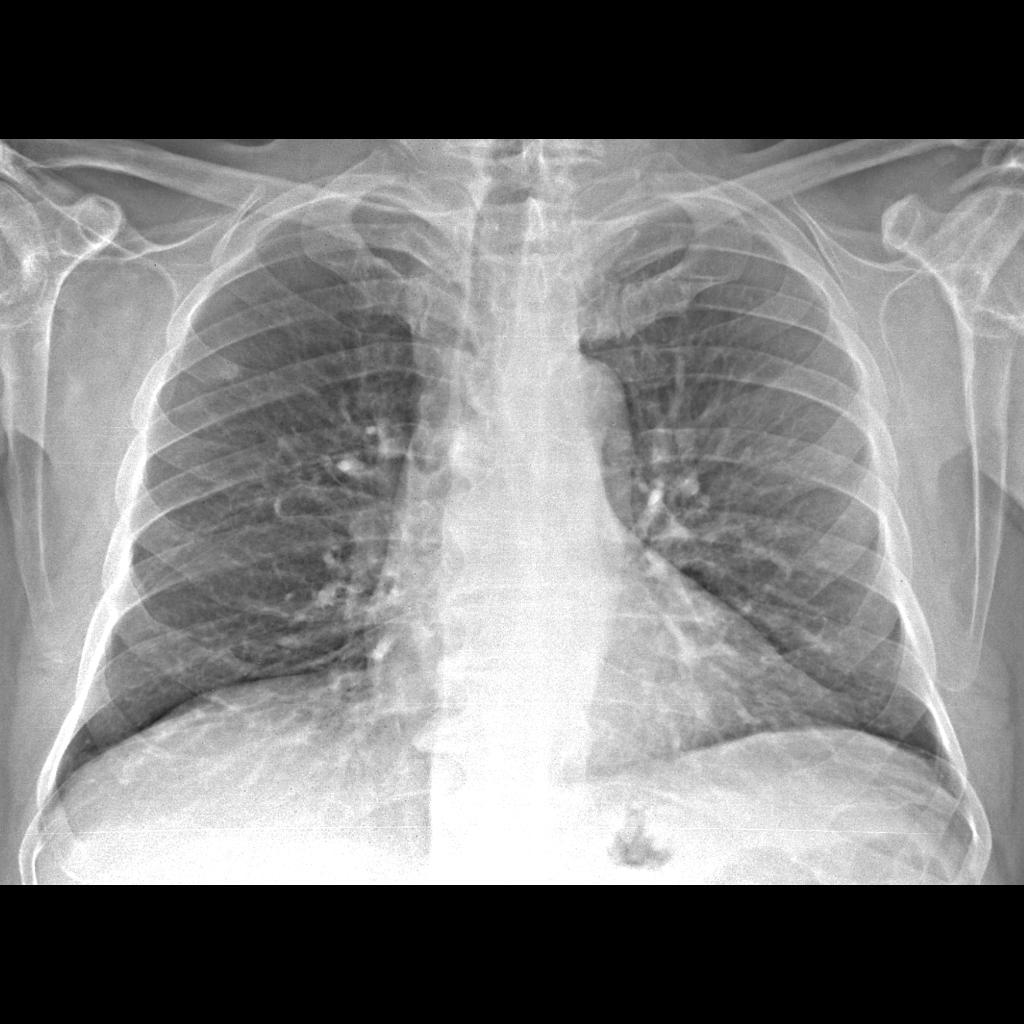Nodule: (208, 354, 252, 387)
